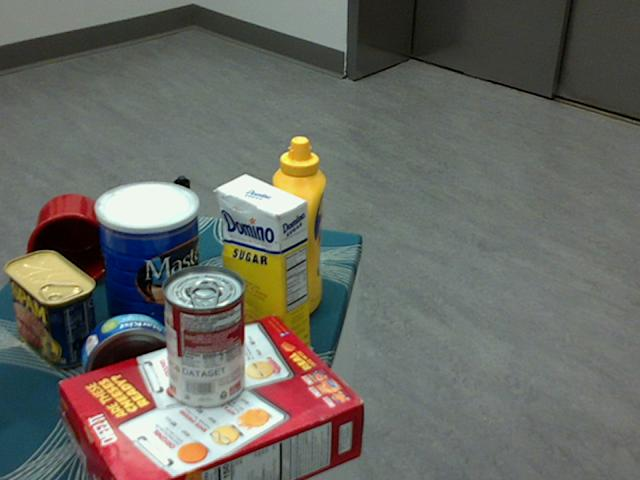cracker_box: (60, 316, 364, 479)
large_marker: (173, 176, 193, 271)
master_chef_can: (93, 182, 201, 346)
mug: (19, 194, 113, 289)
mustard_bottle: (270, 136, 324, 315)
potted_meat_can: (4, 249, 98, 367)
sugar_box: (216, 173, 309, 366)
tomato_soup_can: (160, 267, 243, 409)
tuna_fish_can: (81, 313, 178, 408)
